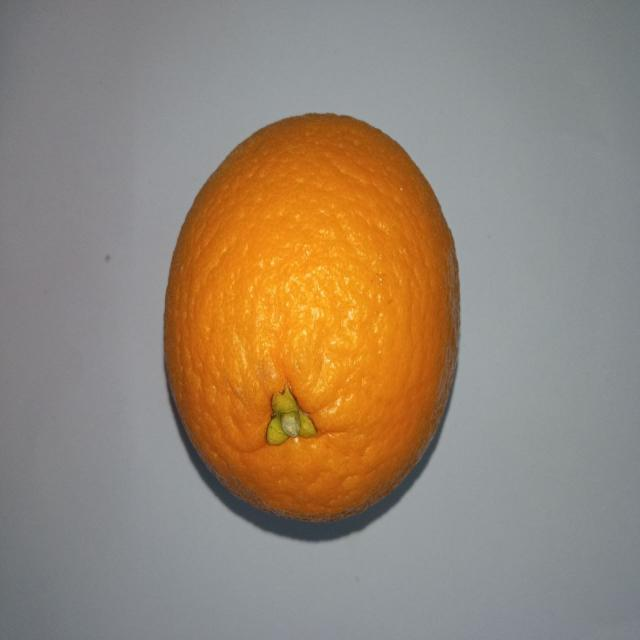fresh_orange: (163, 113, 457, 523)
